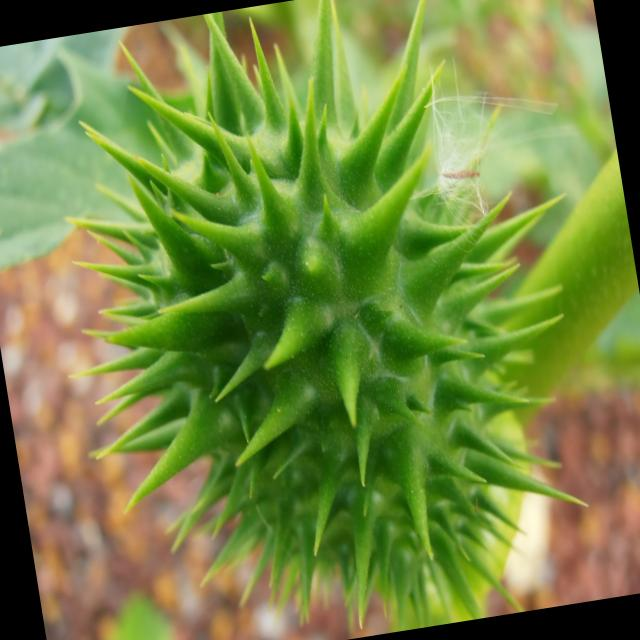Poisonous-Datura_Stramonium: (57, 0, 565, 640)
